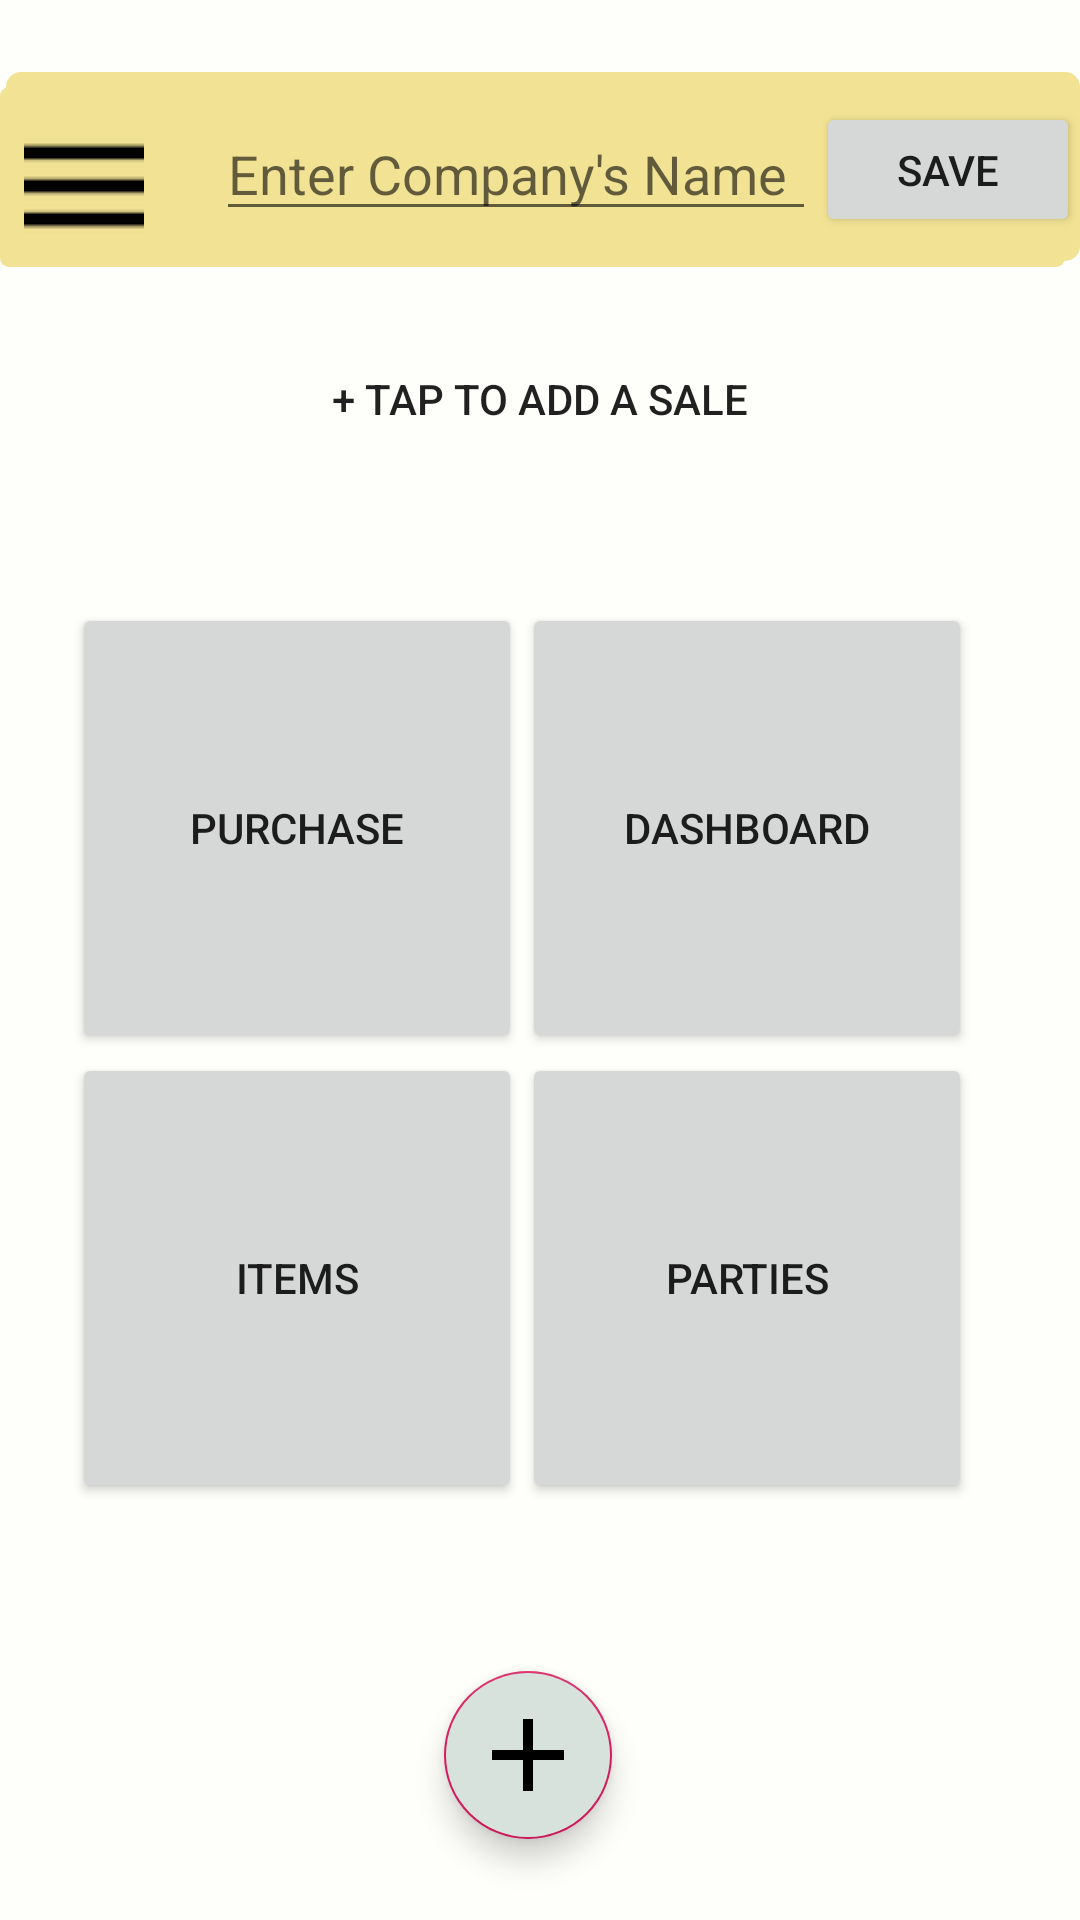

Point at icon controls on the screen. Image size 1080 x 1920, points as (x=x, y=y).
add: (x=528, y=1755)
